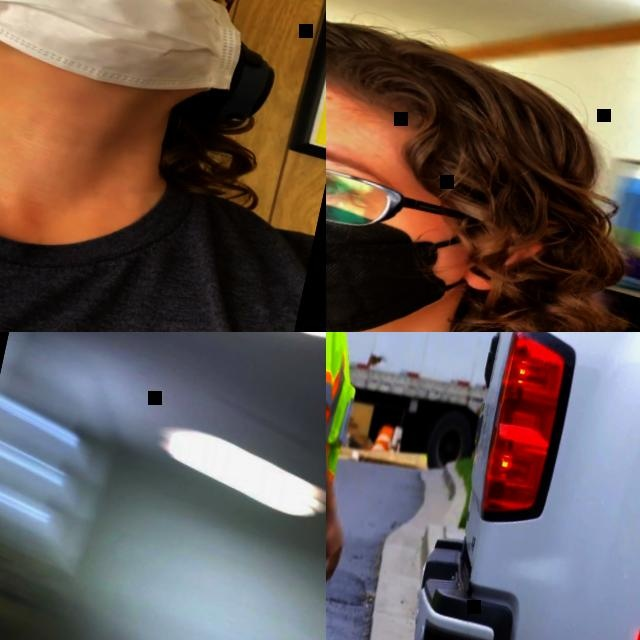Mask: (0, 0, 258, 110), (326, 156, 484, 332)
NO-Hardhat: (326, 0, 612, 192)
NO-Safety Vest: (0, 79, 318, 332)
Person: (0, 0, 326, 332), (326, 0, 640, 332), (326, 332, 423, 640)
Safety Cone: (371, 422, 393, 451)
Safety Vest: (326, 332, 387, 606)
vehicle: (333, 332, 640, 640)
